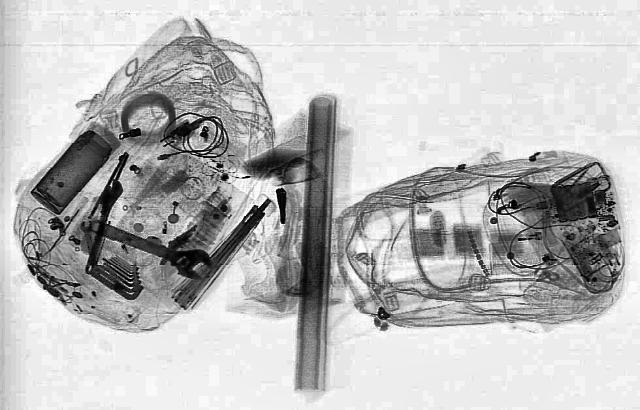Wrench: (74, 208, 226, 284), (78, 180, 124, 274)
